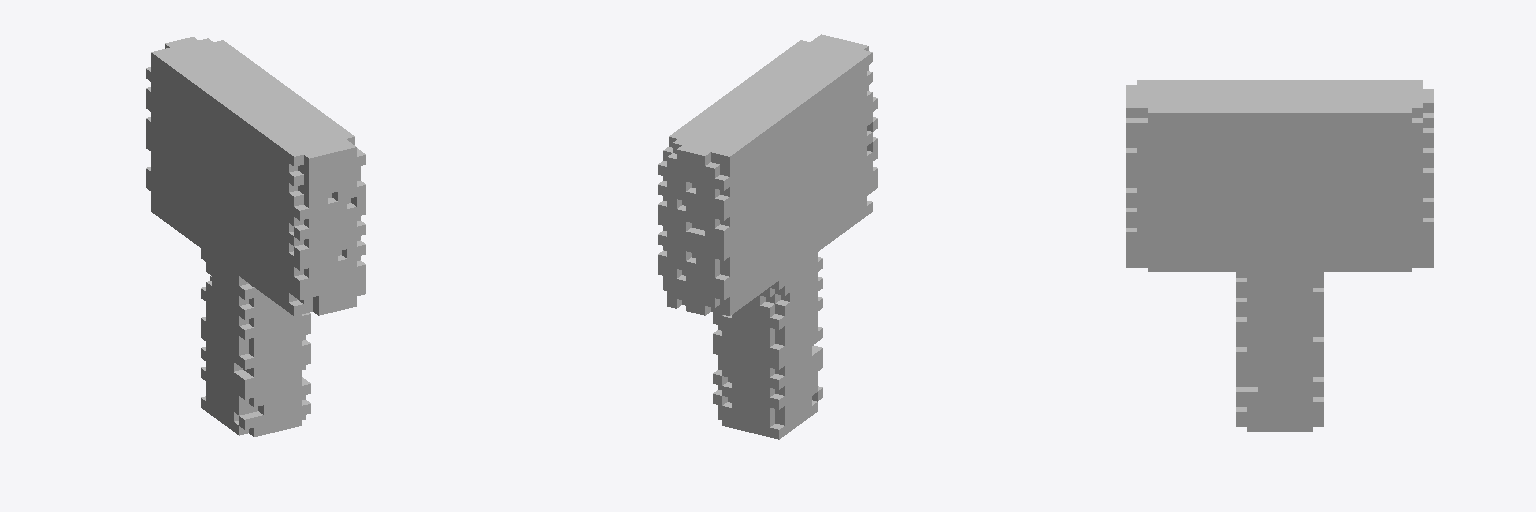
File: Sign.obj
The picture shows the model from 3 angles: view 1: azimuth 30°, elevation 25°; view 2: azimuth 150°, elevation 25°; view 3: azimuth 270°, elevation 25°; orthographic projection.
Visible parts, largest first — view 1: object 1; view 2: object 1; view 3: object 1.
Boxes of the visible parts, x1,y1,x2,y2 form: object 1: [146, 37, 365, 436]; object 1: [658, 34, 877, 439]; object 1: [1126, 80, 1433, 431].
Bounding box in the file's own units: 0.7 × 3.2 × 2.8.